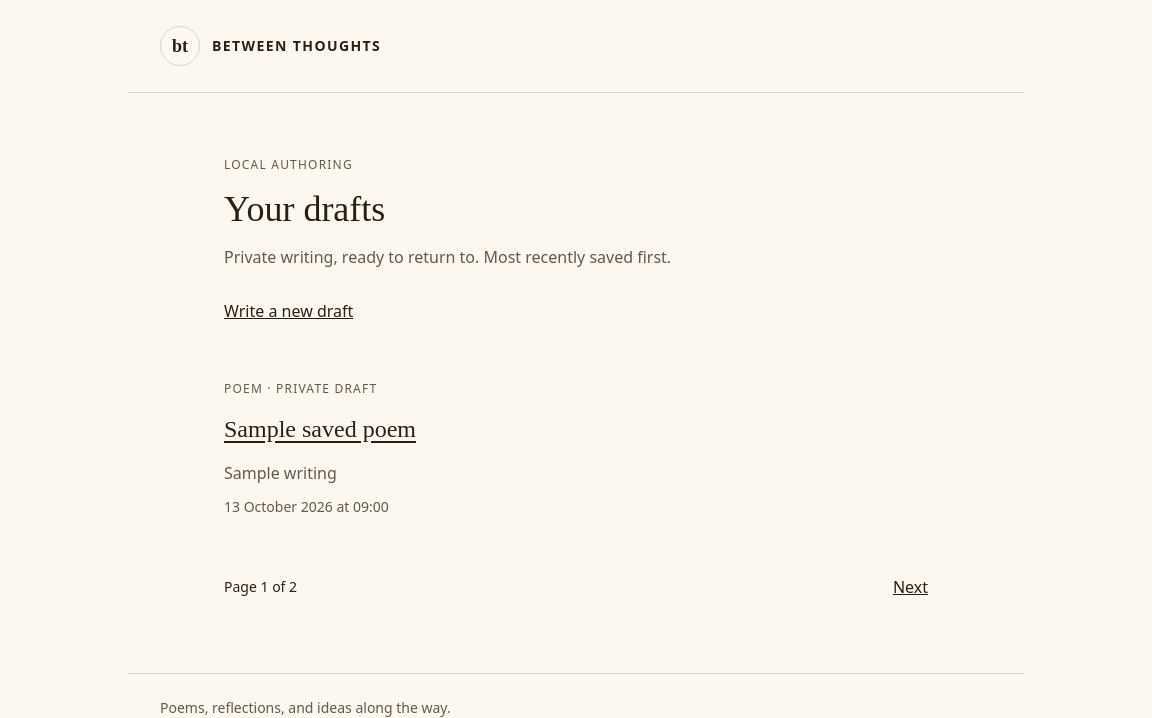
it: lists paginated drafts and opens the correct editor
The width and height of the screenshot is (1152, 718).
Click the link "Next" at (910, 587), box [893,576,928,598]
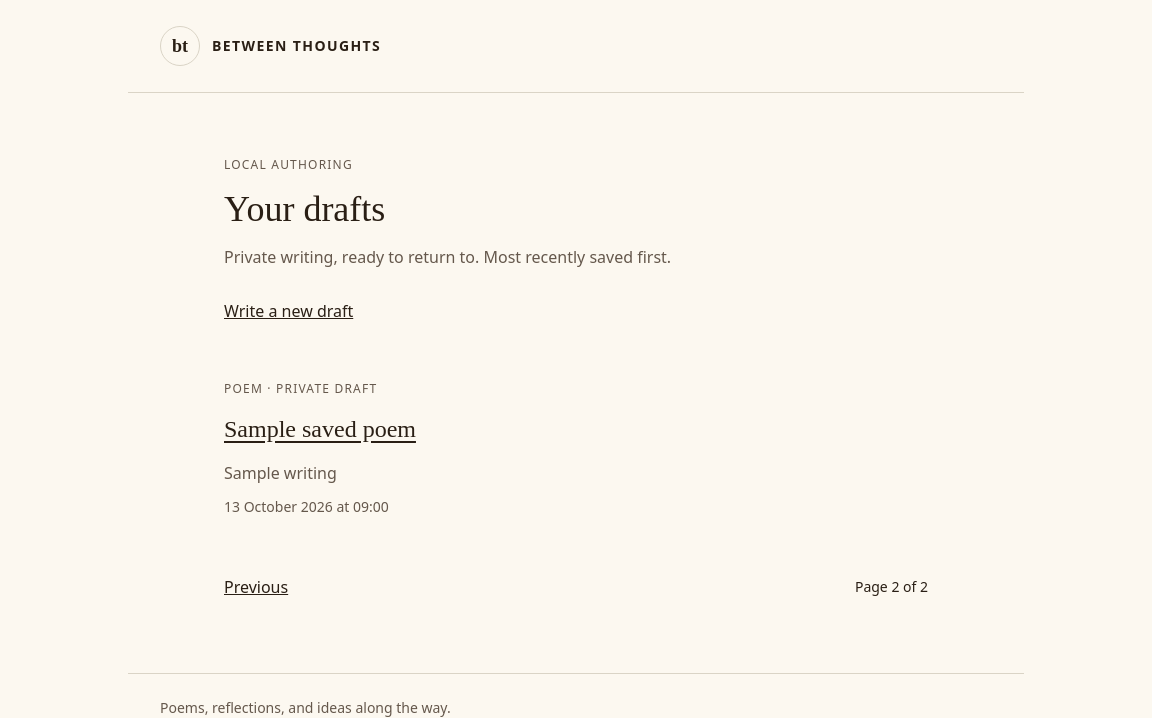
Now the text "Page 2 of 2" is shown, box [855,577,928,597]
Click the link "Sample saved poem" at (320, 429), box [224,416,416,442]
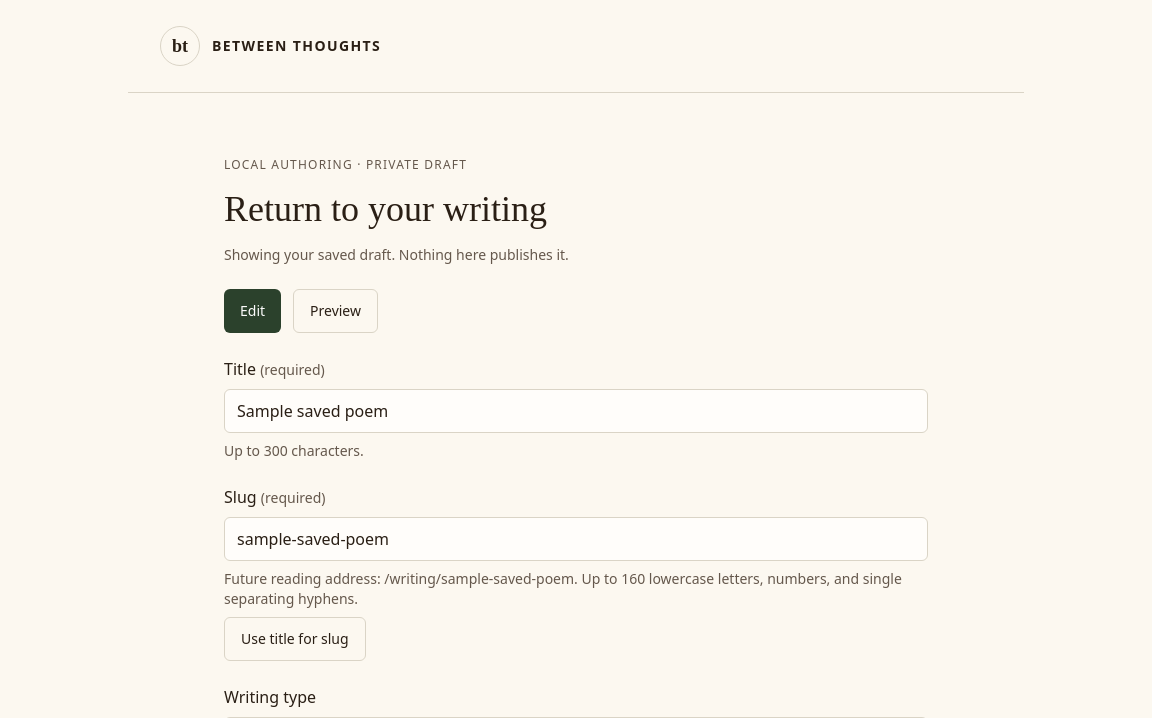
Now the field showing "Sample saved poem" is shown, box [224,389,928,433]
